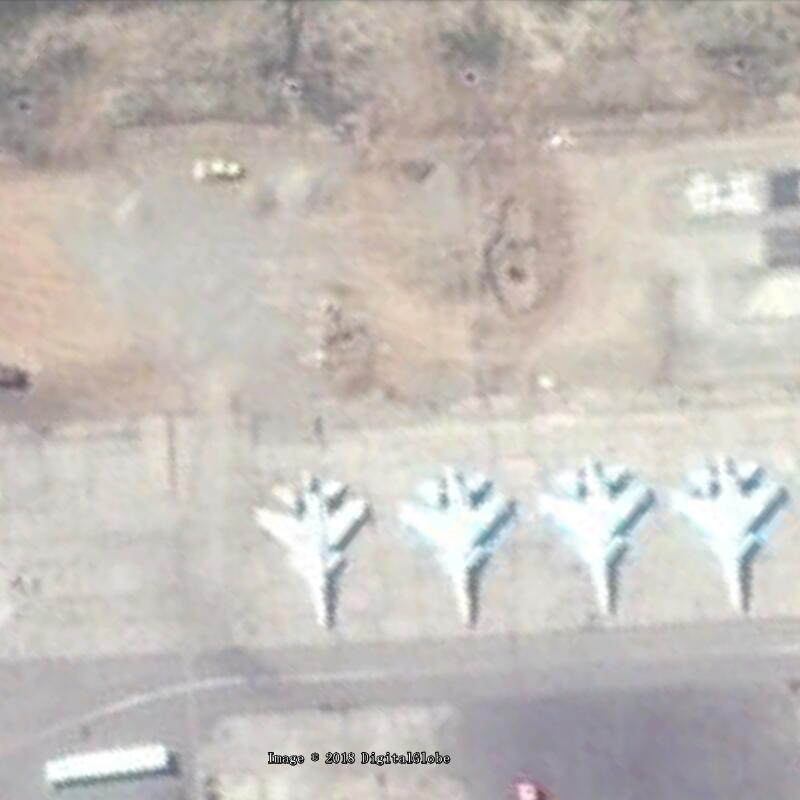A19: (250, 471, 374, 635), (667, 449, 786, 619), (396, 465, 517, 630), (534, 456, 652, 622)
